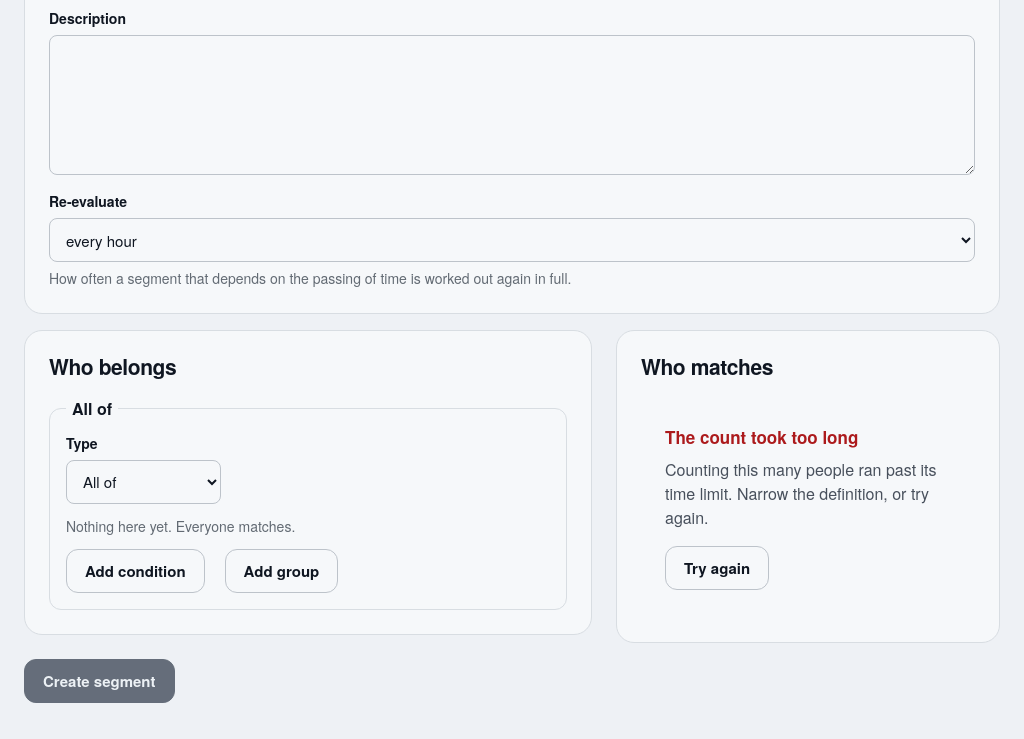
live count › offers a retry when the count times out, and counts again
(page scrolled)
Expected: the text "The count took too long" is shown, [665,425,858,450]
Click the button "Try again" at (717,568), box [665,546,769,590]
(page scrolled)
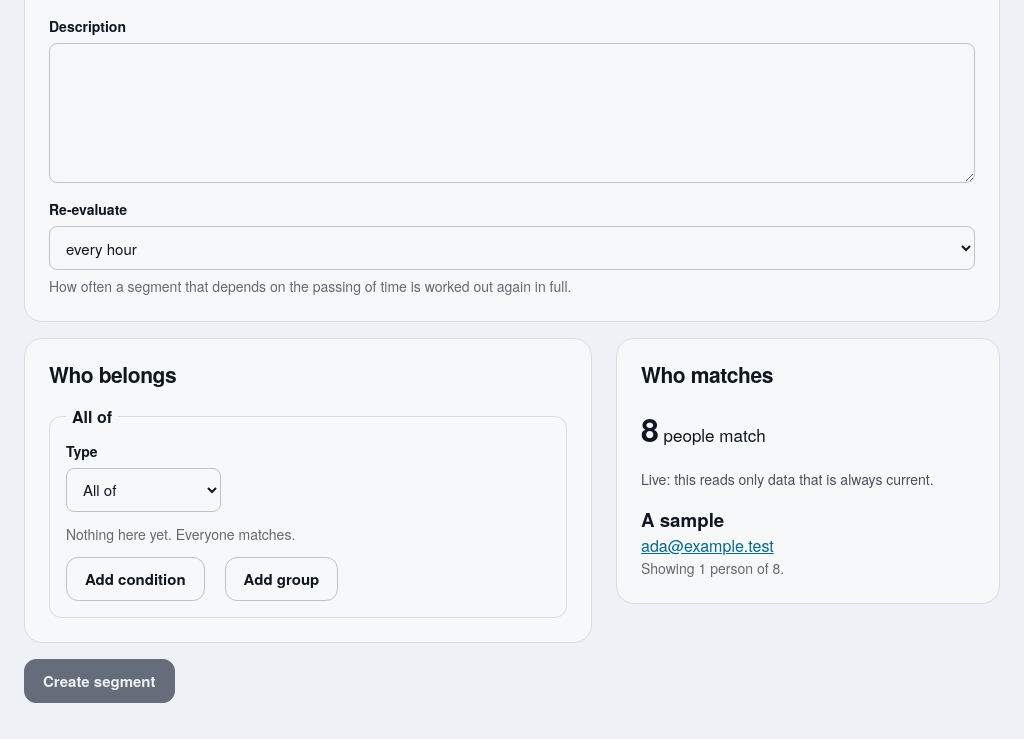
Expected: the element showing "8 people match" is shown, [641,406,766,452]
